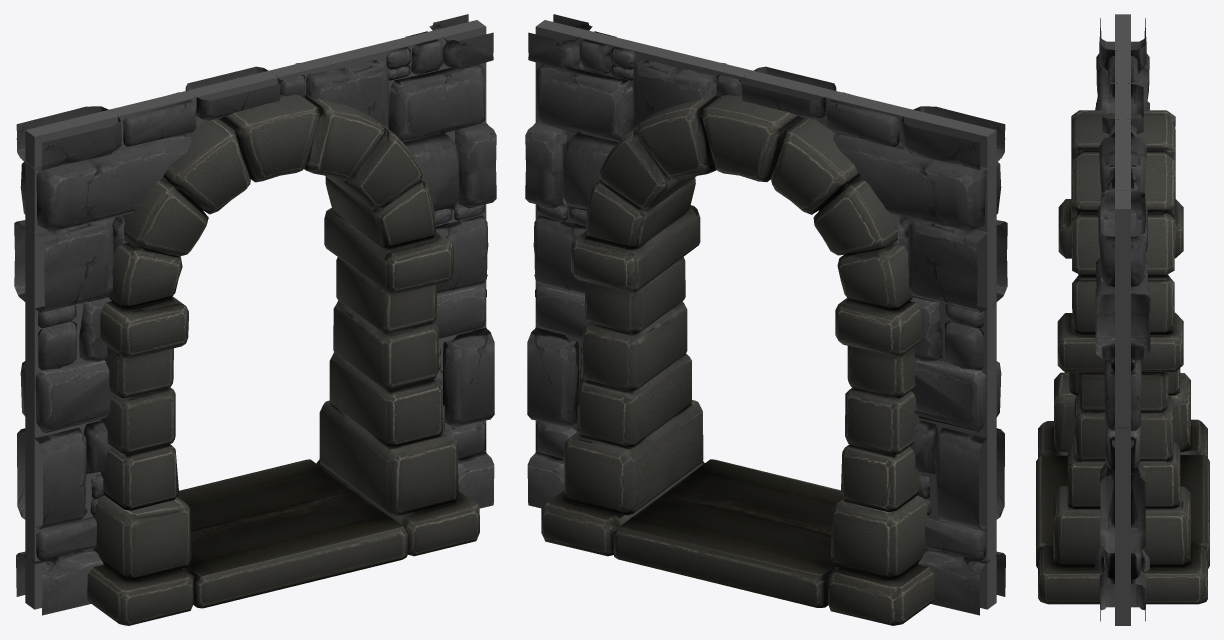
File: WoodenDoor_Arch.fbx
The picture shows the model from 3 angles, left to right: view 1: azimuth 30°, elevation 25°; view 2: azimuth 150°, elevation 25°; view 3: azimuth 270°, elevation 25°; orthographic projection. The views are drawn at different scales.
Parts seen in each view (by area): view 1: Arch_Door; view 2: Arch_Door; view 3: Arch_Door.
Part boxes in pixels (x1=…): Arch_Door: x1=14, y1=14, x2=496, y2=625; Arch_Door: x1=525, y1=14, x2=1007, y2=625; Arch_Door: x1=1036, y1=14, x2=1209, y2=625.
Size of the model in its own units: 302 by 300 by 113.
